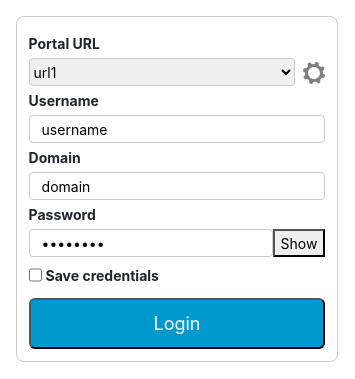
Scenario: Login Component › given the password show/hide button › given the button is clicked › should render as Hide when clicked
Click the button "Show" at (299, 243), box [273, 229, 326, 257]
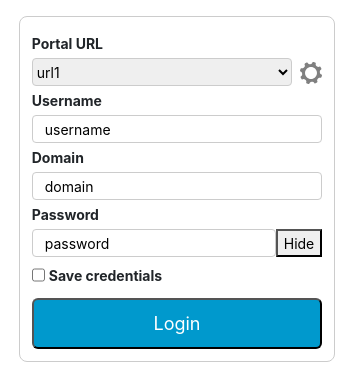
Expected: the button "Show" reads "Hide", [276, 229, 322, 257]
